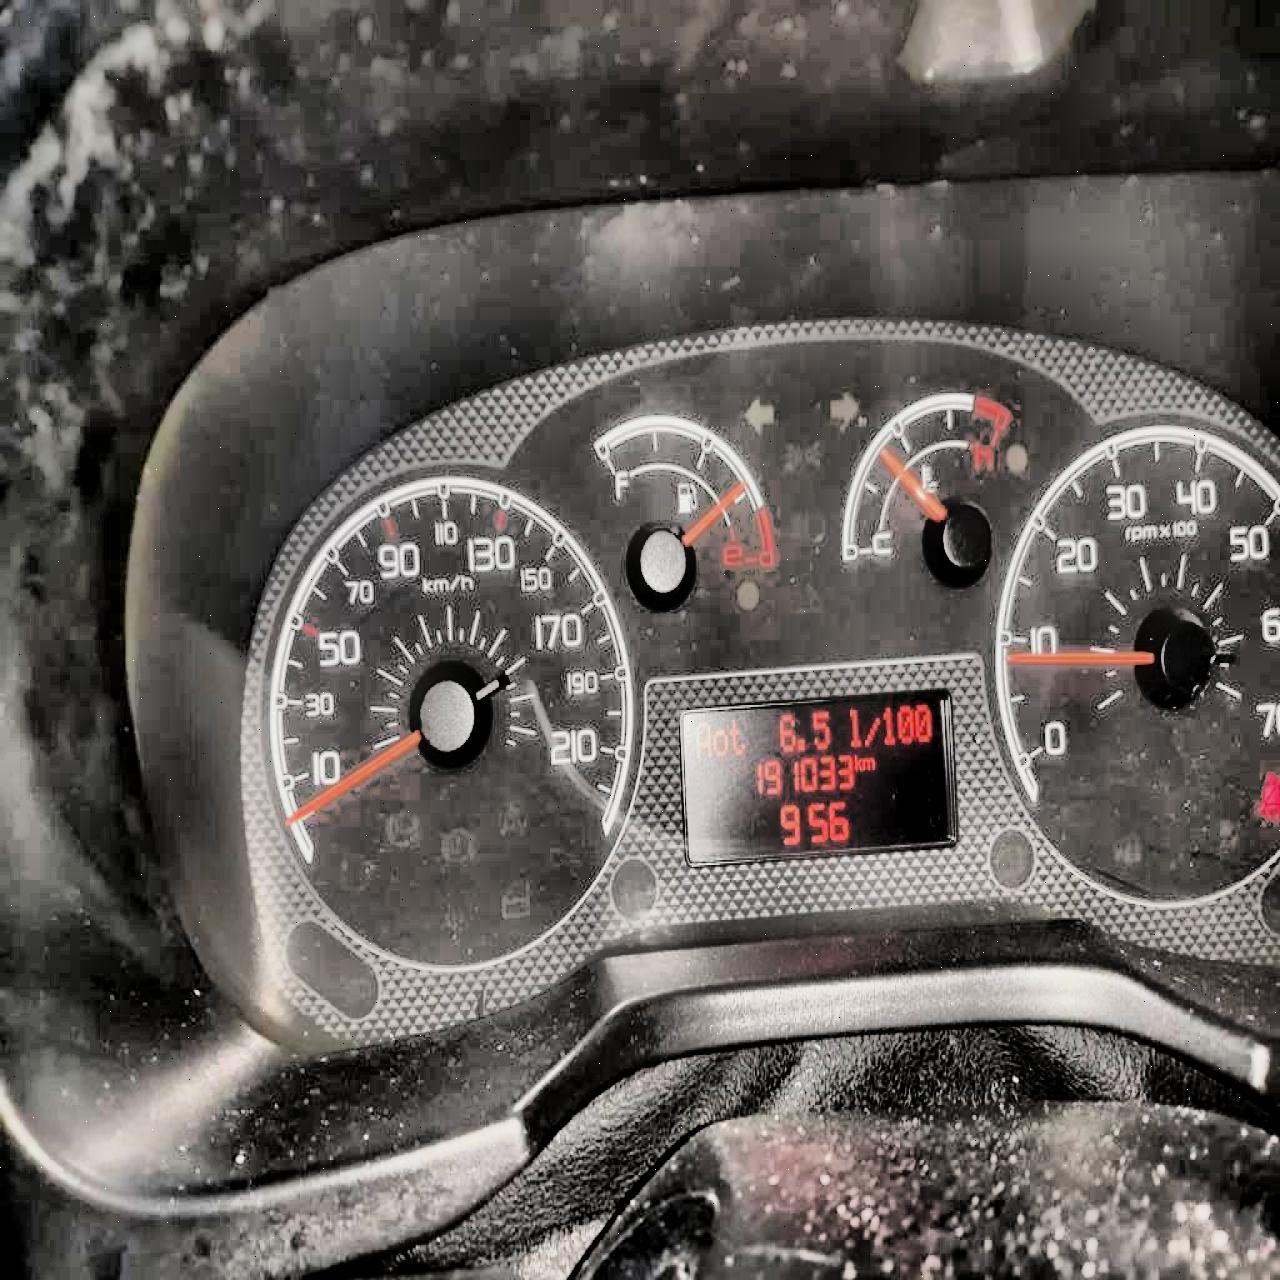-: (796, 734, 806, 751)
0: (897, 702, 914, 745), (798, 755, 817, 794), (914, 701, 931, 742)
1: (881, 703, 896, 749), (755, 760, 763, 795), (791, 758, 797, 791)
3: (817, 754, 833, 790), (837, 751, 852, 788)
5: (805, 799, 826, 843), (811, 708, 830, 750)
6: (828, 798, 847, 842), (777, 712, 795, 754)
9: (776, 801, 798, 846), (762, 758, 779, 794)
X: (728, 716, 747, 756), (847, 700, 862, 751), (693, 720, 710, 758), (864, 713, 878, 747), (713, 727, 728, 756), (862, 755, 874, 774), (853, 751, 862, 771)
odometer: (673, 679, 960, 870)
